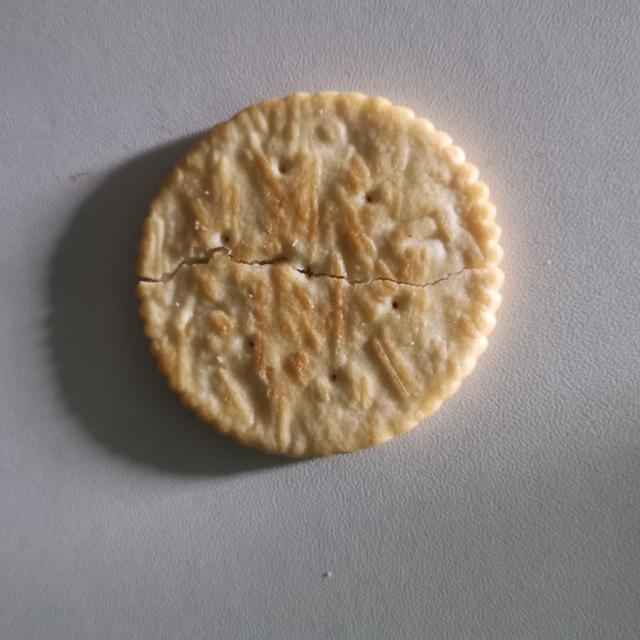Fracture: (131, 239, 493, 300)
